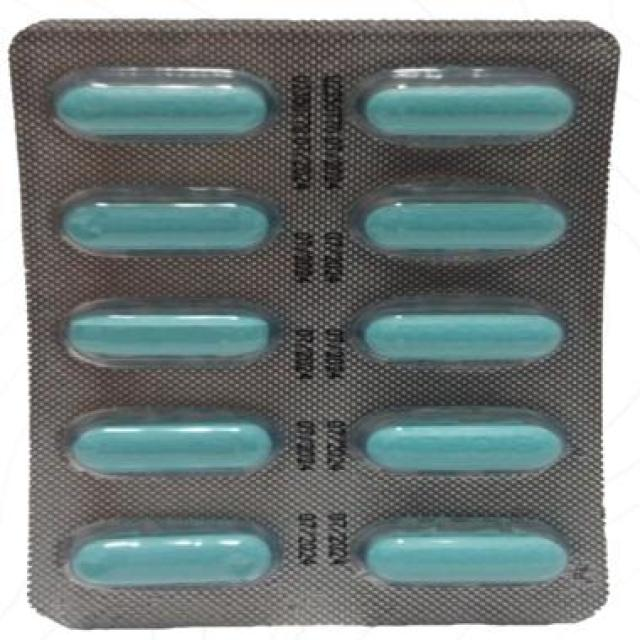Bioflu_Strip: (5, 14, 640, 640)
